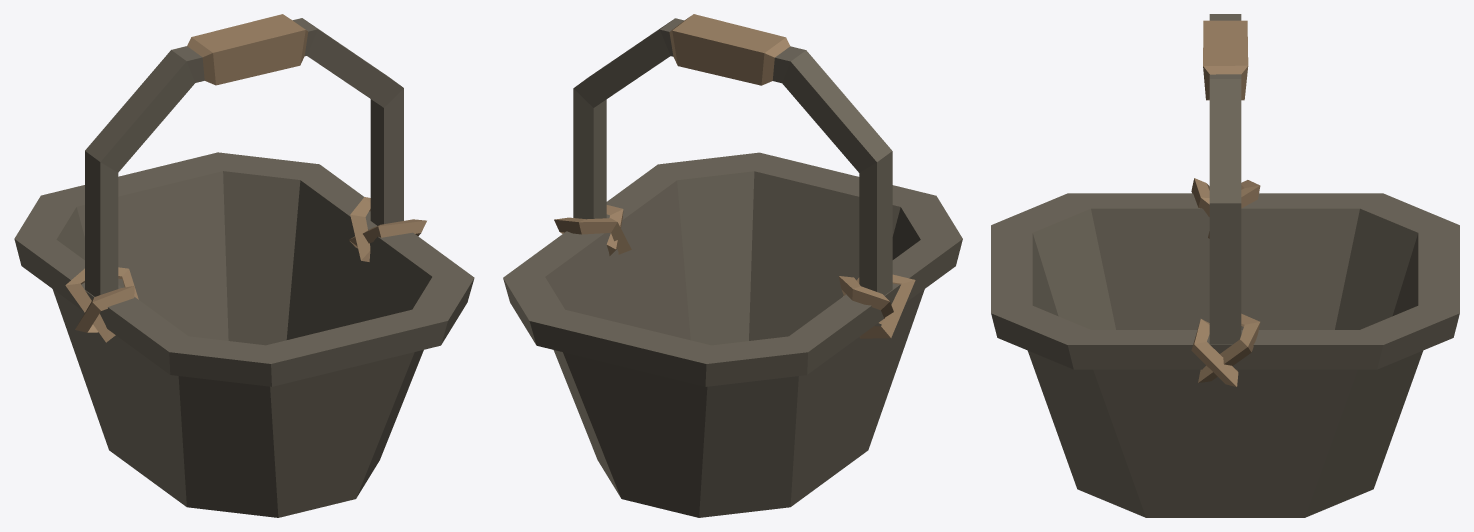
The model's file is Basket_Empty.fbx.
3 renders of one model, left to right at view 1: azimuth 30°, elevation 25°; view 2: azimuth 150°, elevation 25°; view 3: azimuth 270°, elevation 25°, orthographic.
Visible parts, largest first — view 1: Basket_Empty; view 2: Basket_Empty; view 3: Basket_Empty.
Boxes of the visible parts, x1,y1,x2,y2 form: Basket_Empty: (14, 14, 474, 517); Basket_Empty: (503, 14, 962, 517); Basket_Empty: (991, 14, 1459, 517).
Size of the model in its own units: 54.51 by 64.58 by 65.22.
